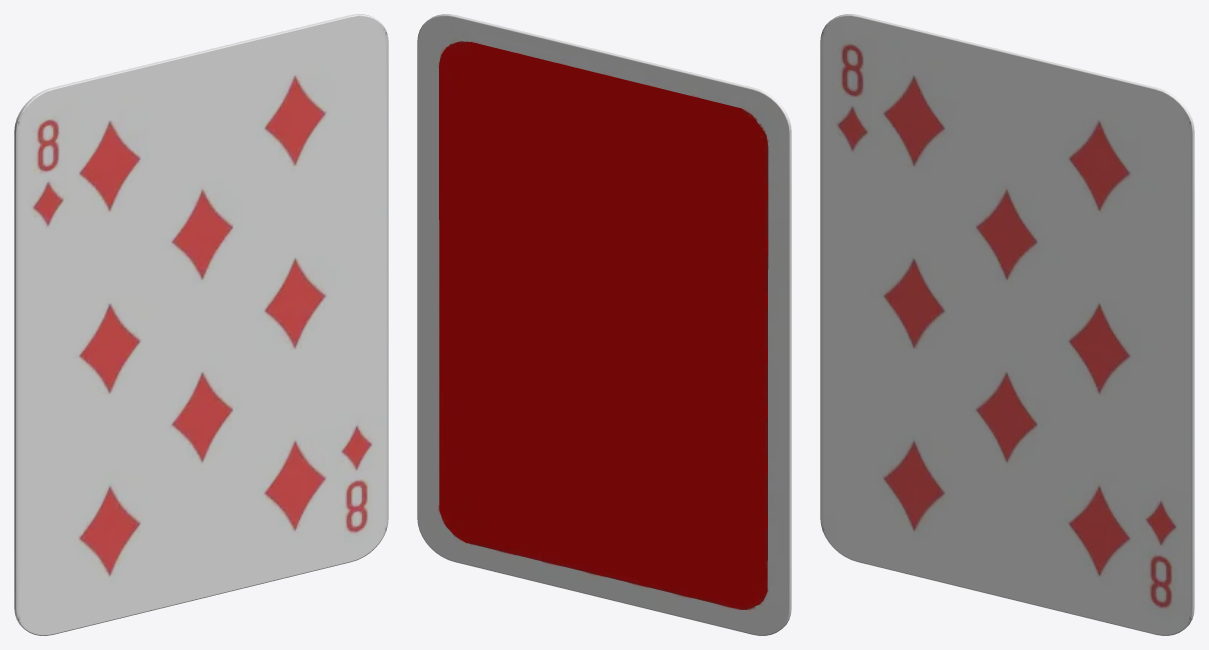
File: diamonds_8.glb
3 renders of one model, left to right at view 1: azimuth 30°, elevation 25°; view 2: azimuth 150°, elevation 25°; view 3: azimuth 330°, elevation 25°, orthographic.
Parts seen in each view (by area): view 1: defaultMaterial.028; view 2: defaultMaterial.028; view 3: defaultMaterial.028.
Boxes of the visible parts, x1=… form: defaultMaterial.028: x1=14, y1=14, x2=388, y2=635; defaultMaterial.028: x1=417, y1=14, x2=791, y2=635; defaultMaterial.028: x1=820, y1=14, x2=1194, y2=635.
Size of the model in its own units: 0.1408 by 0.1972 by 0.00111.
Materials: 1 (1 with a texture image).
